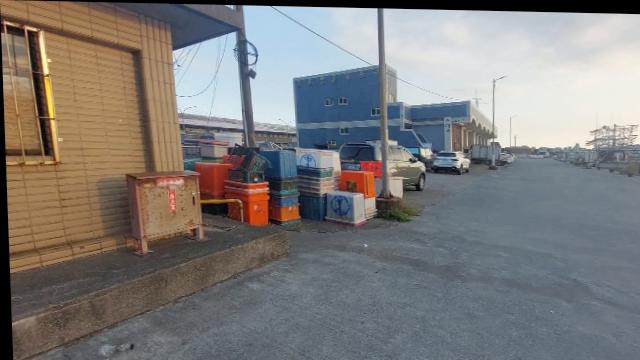pollute: (181, 131, 382, 225), (387, 176, 403, 197)
